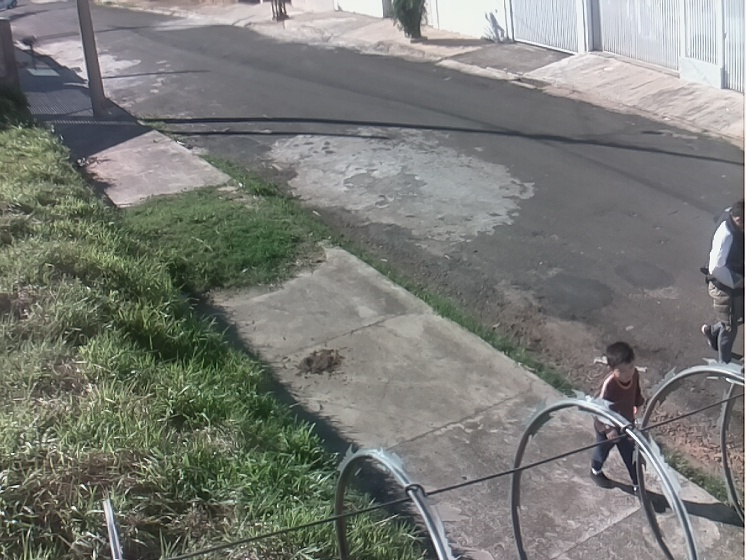person: (589, 341, 649, 498), (700, 199, 743, 366)
